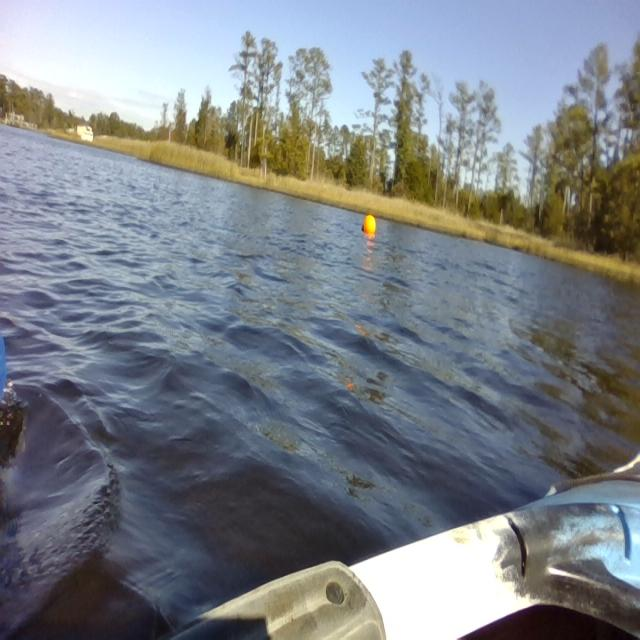Buoy: (361, 212, 379, 242)
